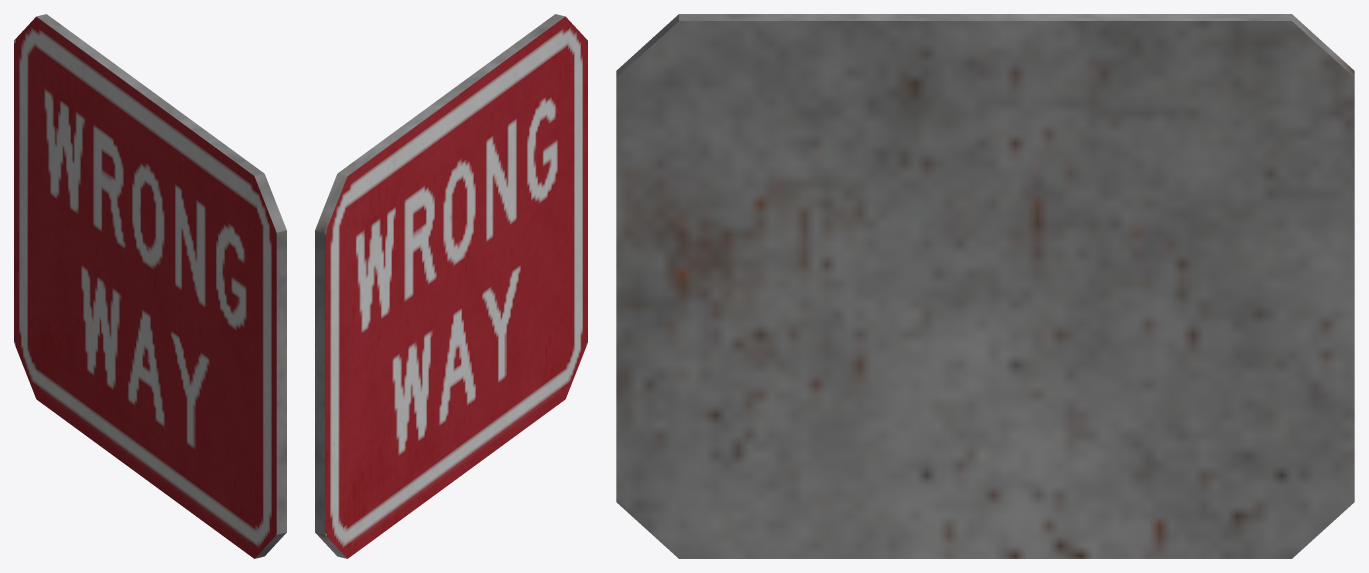
The model's file is Sign_WrongWay_Plate.obj.
The picture shows the model from 3 angles, left to right: view 1: azimuth 30°, elevation 25°; view 2: azimuth 150°, elevation 25°; view 3: azimuth 270°, elevation 25°; orthographic projection. The views are drawn at different scales.
Parts seen in each view (by area): view 1: Sign_WrongWay_Plate; view 2: Sign_WrongWay_Plate; view 3: Sign_WrongWay_Plate.
Boxes of the visible parts, left/top/right/bottom form: Sign_WrongWay_Plate: left=14, top=14, right=286, bottom=558; Sign_WrongWay_Plate: left=315, top=14, right=587, bottom=558; Sign_WrongWay_Plate: left=616, top=14, right=1354, bottom=558.
Size of the model in its own units: 0.0152 by 0.5425 by 0.6746.
